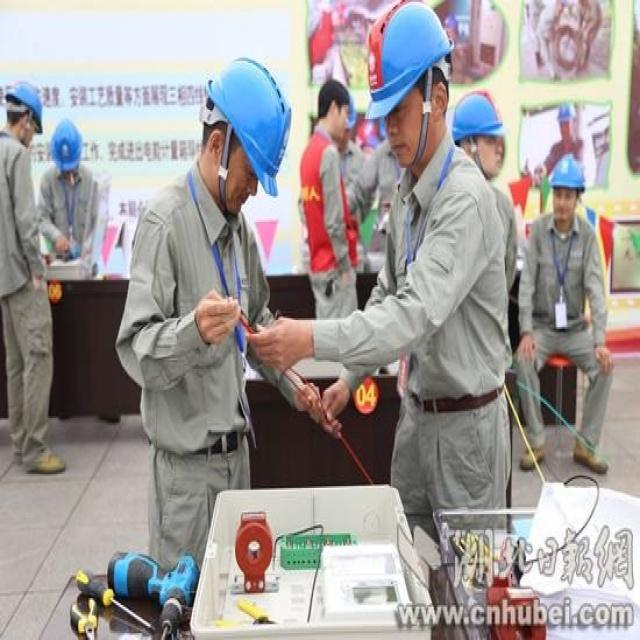helmet: (196, 72, 290, 275), (367, 5, 452, 220), (452, 117, 504, 239), (547, 208, 583, 299), (4, 106, 41, 190), (318, 102, 351, 190), (49, 159, 84, 236)
